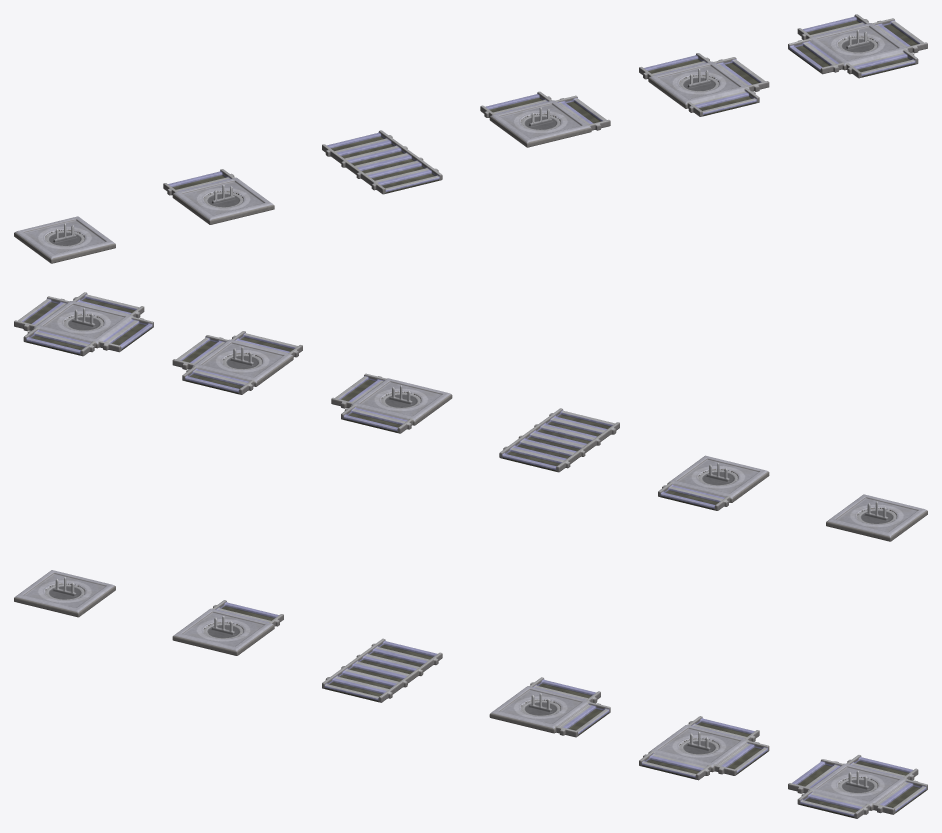
Rendered from firestorm-wall.glb.
The picture shows the model from 3 angles, top to bottom: view 1: azimuth 30°, elevation 25°; view 2: azimuth 150°, elevation 25°; view 3: azimuth 330°, elevation 25°; orthographic projection.
Parts seen in each view (by area): view 1: section-cross, section-tee, section-corner, section-straight, section-end, section-alone; view 2: section-cross, section-tee, section-corner, section-straight, section-end, section-alone; view 3: section-cross, section-tee, section-corner, section-straight, section-end, section-alone.
Part boxes in pixels (bbox=[...]): section-cross: bbox=[788, 14, 927, 78]; section-tee: bbox=[639, 53, 769, 116]; section-corner: bbox=[480, 91, 610, 147]; section-straight: bbox=[322, 130, 442, 194]; section-end: bbox=[163, 169, 274, 224]; section-alone: bbox=[14, 216, 115, 263]; section-cross: bbox=[14, 292, 153, 356]; section-tee: bbox=[172, 331, 302, 394]; section-corner: bbox=[331, 373, 452, 433]; section-straight: bbox=[499, 408, 619, 472]; section-end: bbox=[658, 455, 769, 510]; section-alone: bbox=[826, 494, 927, 541]; section-cross: bbox=[788, 755, 927, 818]; section-tee: bbox=[639, 716, 769, 780]; section-corner: bbox=[489, 677, 610, 737]; section-straight: bbox=[322, 638, 442, 702]; section-end: bbox=[172, 600, 283, 655]; section-alone: bbox=[14, 570, 115, 617].
Bounding box in the file's own units: 8.31 × 0.1738 × 1.
